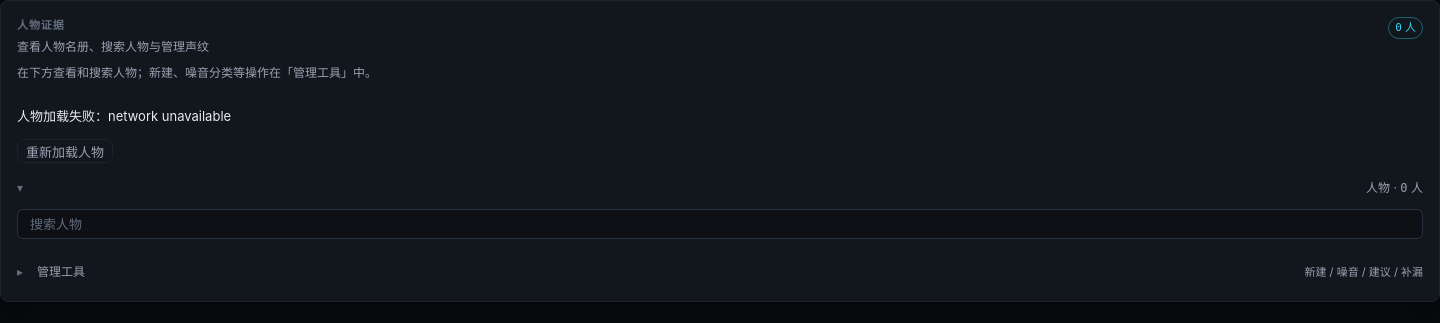
Scenario: PeoplePanel › offers a working retry when loading fails
Step 1. Click the button "重新加载人物" → click(65, 151), box [17,139,113,163]
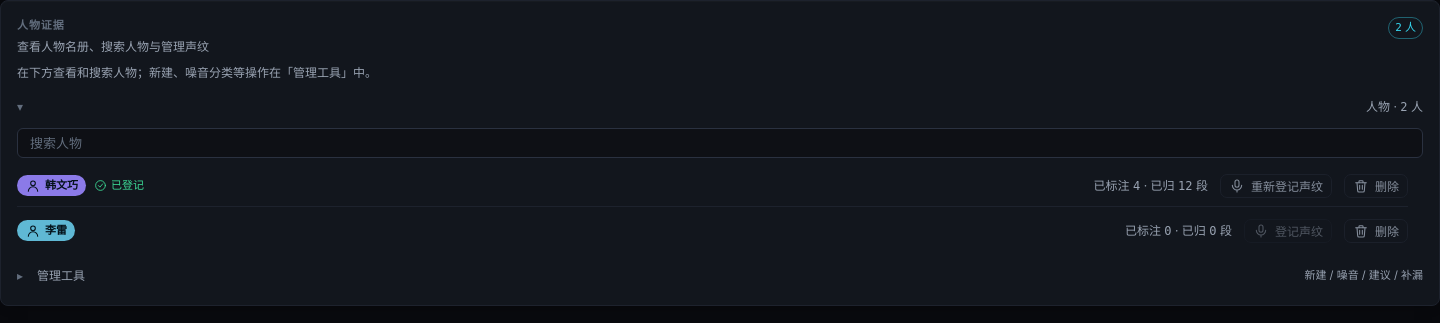
Check: the text "韩文巧" is shown, box [17,175,86,196]
Check: the message "人物加载失败：network unavailable 重新加载人物" is gone
